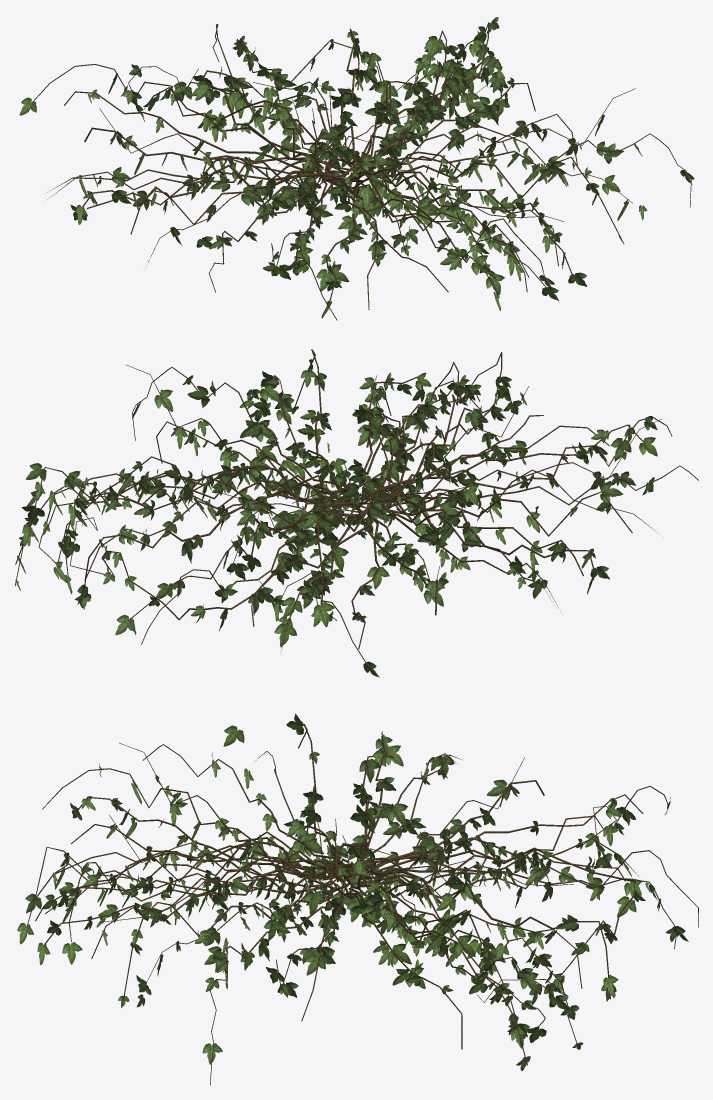
The model's file is SM_Ivy_ground_00.fbx.
3 views of the same model, one above another, from view 1: azimuth 30°, elevation 25°; view 2: azimuth 150°, elevation 25°; view 3: azimuth 270°, elevation 25° (orthographic). The views are drawn at different scales.
Visible parts, largest first — view 1: SM_Ivy_ground_00; view 2: SM_Ivy_ground_00; view 3: SM_Ivy_ground_00.
Part boxes in pixels (<box>): SM_Ivy_ground_00: <box>19,17,694,320</box>; SM_Ivy_ground_00: <box>15,349,698,677</box>; SM_Ivy_ground_00: <box>17,713,698,1085</box>.
Size of the model in its own units: 274 by 59.3 by 286.
